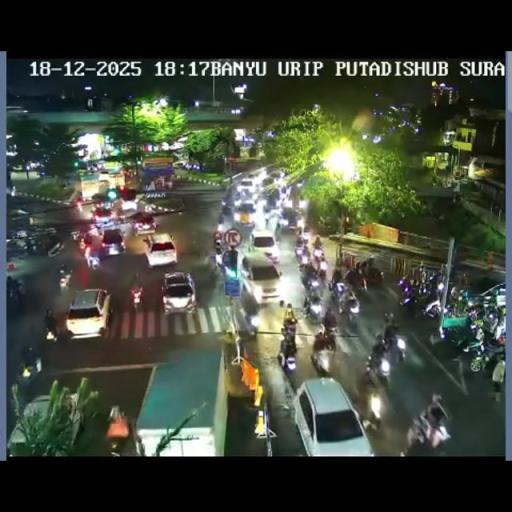Car: (290, 377, 372, 455), (6, 394, 78, 456), (66, 288, 112, 338), (243, 251, 282, 303), (161, 272, 196, 314), (142, 232, 177, 266), (98, 228, 128, 258), (131, 212, 157, 235), (234, 202, 256, 229), (281, 207, 301, 232), (92, 204, 114, 226), (119, 193, 139, 213), (259, 177, 277, 196), (238, 178, 256, 196), (172, 160, 189, 169)
Motorcycle: (303, 238, 382, 328), (364, 334, 407, 383), (408, 410, 450, 456), (462, 329, 504, 372), (428, 322, 466, 362), (358, 386, 384, 435), (237, 287, 261, 333), (309, 334, 335, 374), (276, 332, 298, 370), (400, 284, 424, 318), (218, 328, 238, 366), (421, 278, 441, 314), (442, 292, 468, 319), (304, 294, 325, 325), (300, 267, 322, 296), (344, 266, 366, 294), (44, 312, 66, 340), (491, 358, 505, 400), (38, 234, 64, 256), (331, 281, 350, 310), (6, 238, 28, 259), (364, 265, 384, 288), (344, 296, 360, 324), (6, 282, 20, 312), (492, 310, 506, 340), (312, 247, 327, 273), (453, 270, 469, 294), (464, 303, 483, 323), (130, 282, 143, 310), (322, 308, 337, 332), (294, 244, 310, 266), (24, 236, 42, 255), (58, 268, 72, 290), (18, 362, 33, 382), (213, 248, 226, 271), (266, 206, 282, 224), (86, 250, 100, 270), (416, 264, 427, 285), (298, 226, 310, 243), (254, 196, 266, 212), (384, 311, 394, 325), (214, 235, 222, 252), (145, 202, 156, 214), (78, 234, 86, 250), (221, 196, 230, 210), (298, 198, 308, 210), (217, 212, 225, 226), (314, 236, 322, 250), (75, 199, 83, 211)
